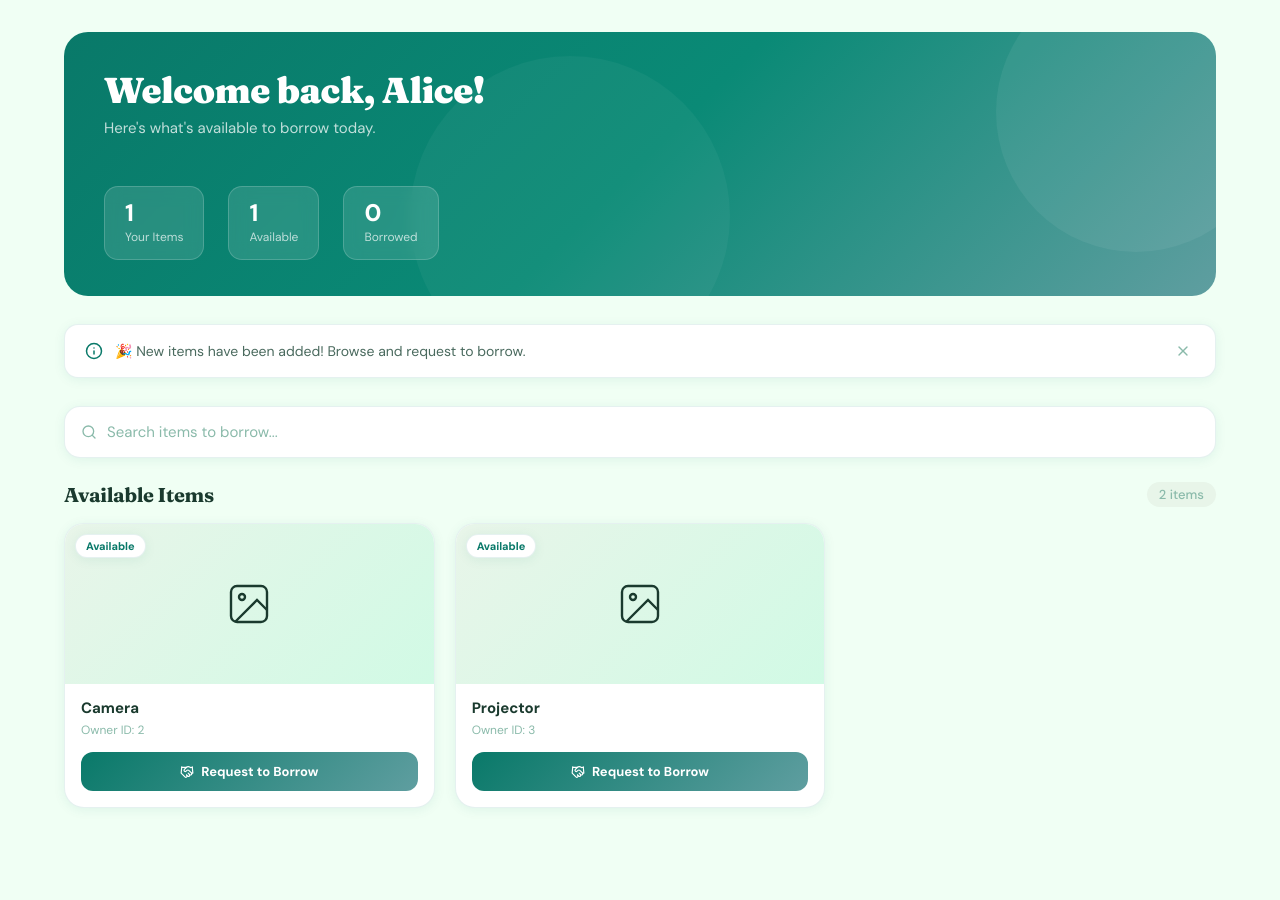
Test case: HomePage › shows empty state when no items match search
The image size is (1280, 900).
Check: the text "Camera" is shown, box x1=81 y1=698 x2=139 y2=718
Type "nonexistent xyz" into the field with placeholder "Search items to borrow...". click: [653, 432]
box: x1=107 y1=422 x2=1199 y2=442
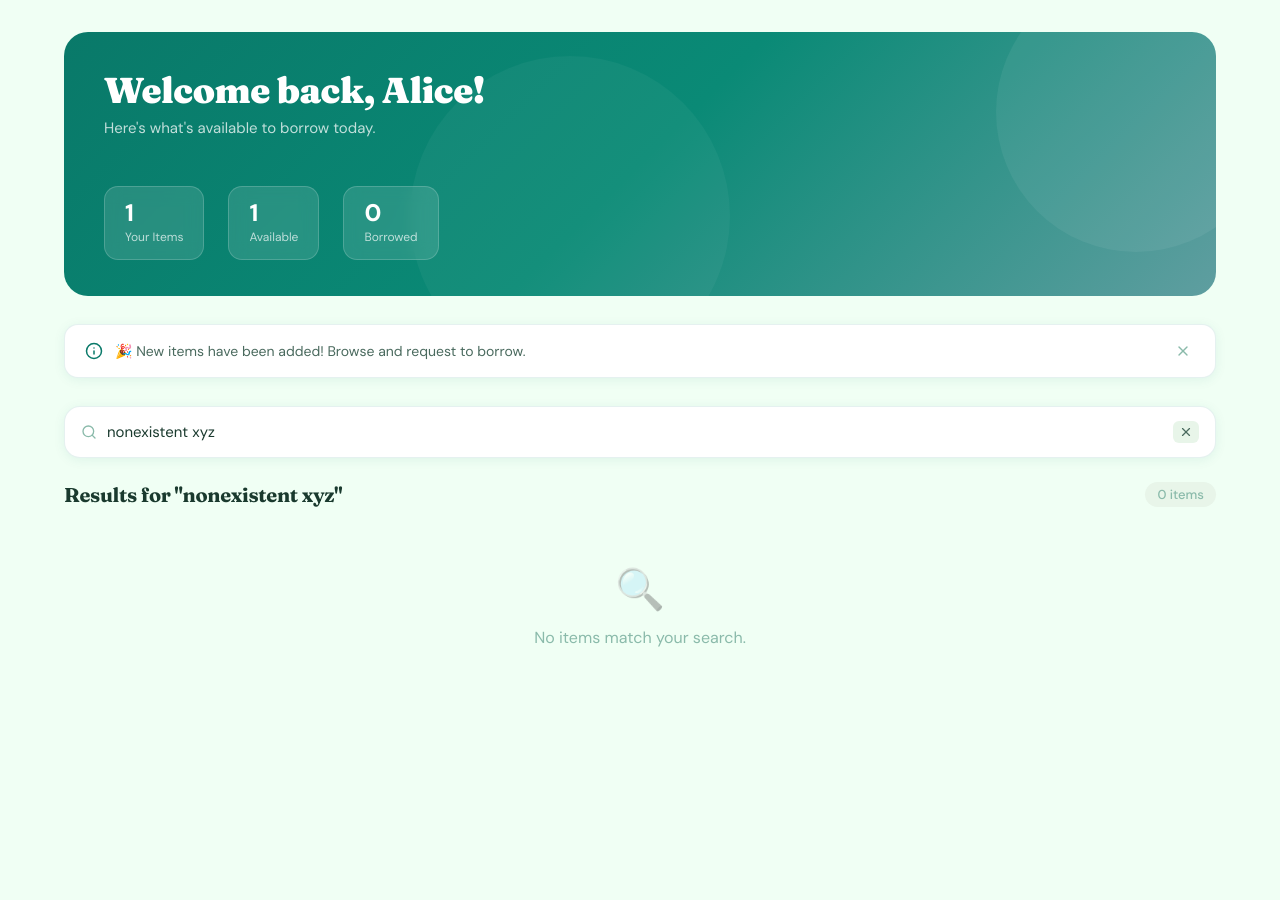
Check: the text "No items match your search." is shown, box x1=534 y1=627 x2=746 y2=648
